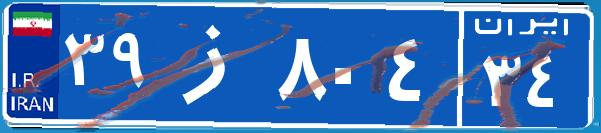0: (330, 28, 385, 110)
3: (57, 26, 110, 107), (475, 38, 525, 113)
4: (385, 28, 445, 110), (525, 38, 570, 115)
8: (273, 28, 330, 110)
9: (110, 28, 158, 105)
ز: (158, 15, 273, 115)
